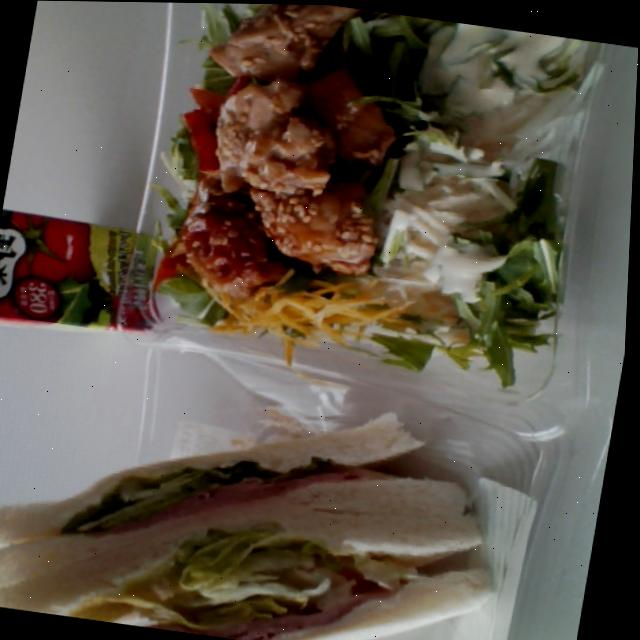三明治: (0, 379, 509, 640)
蔬菜料理: (78, 1, 620, 409)
